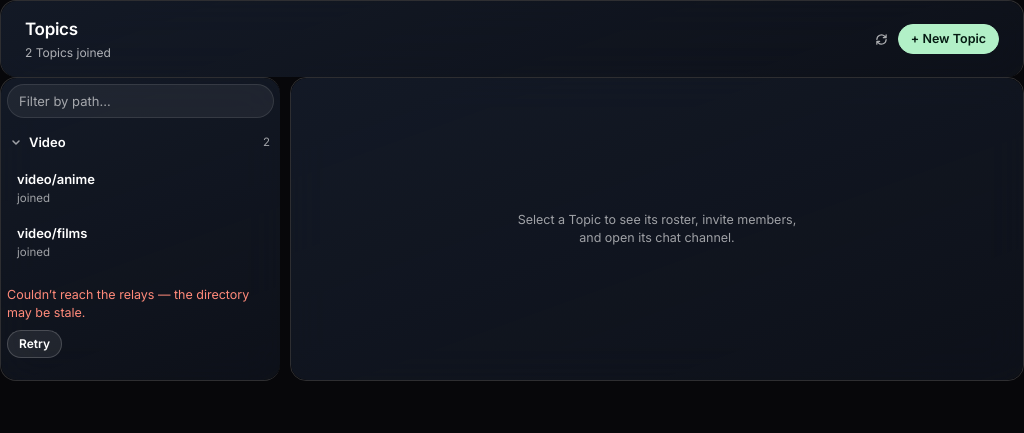
Scenario: finding #36 — open() roster fetch is generation-guarded › a stale roster resolve from a previous Topic must not bind to the newly-open one
This screenshot has width=1024, height=433.
// Open A — its roster fetch goes out and hangs.
Click the button with class "topic-row" showing "video/anime joined" at (56, 179), box [7, 161, 274, 215]
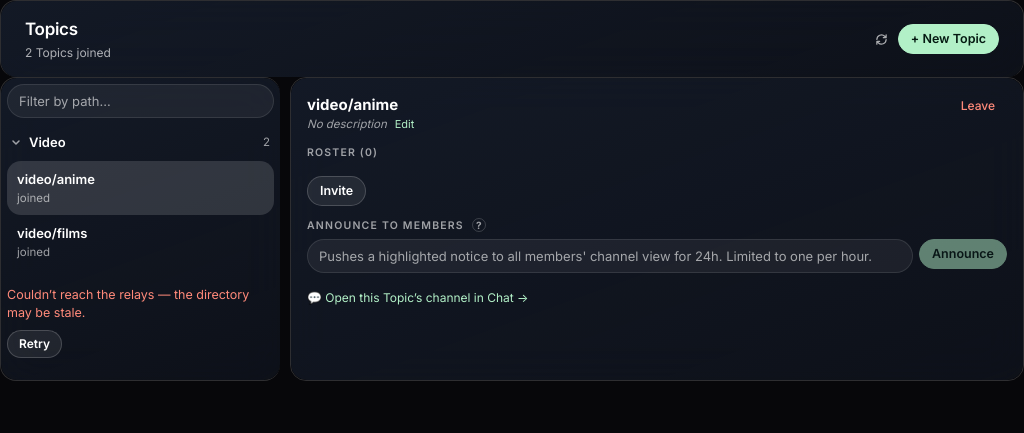
// Open B before A resolves — B's roster lands and is shown (2 members).
Click the button with class "topic-row" showing "video/films joined" at (52, 233), box [7, 215, 274, 270]
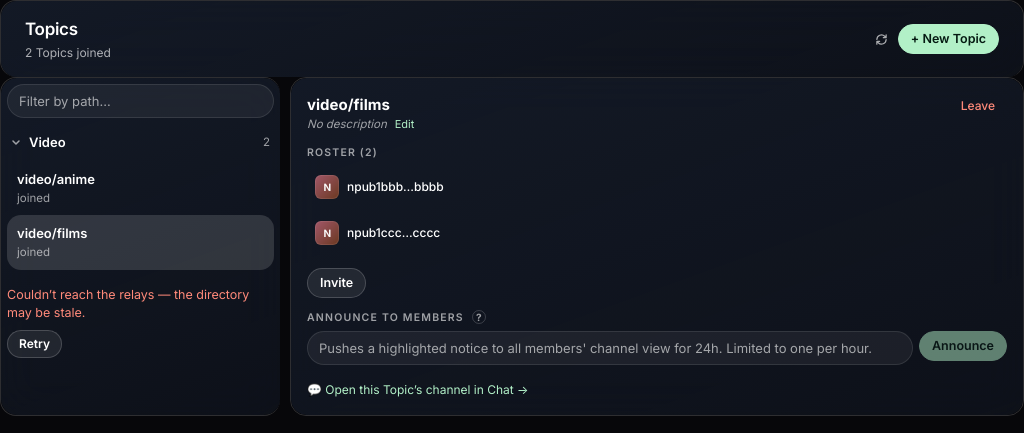
Result: the text "Roster (2)" is shown at [307, 146, 378, 159]
Result: the number of list items is 2 at [315, 175, 444, 199]; [315, 221, 440, 245]
